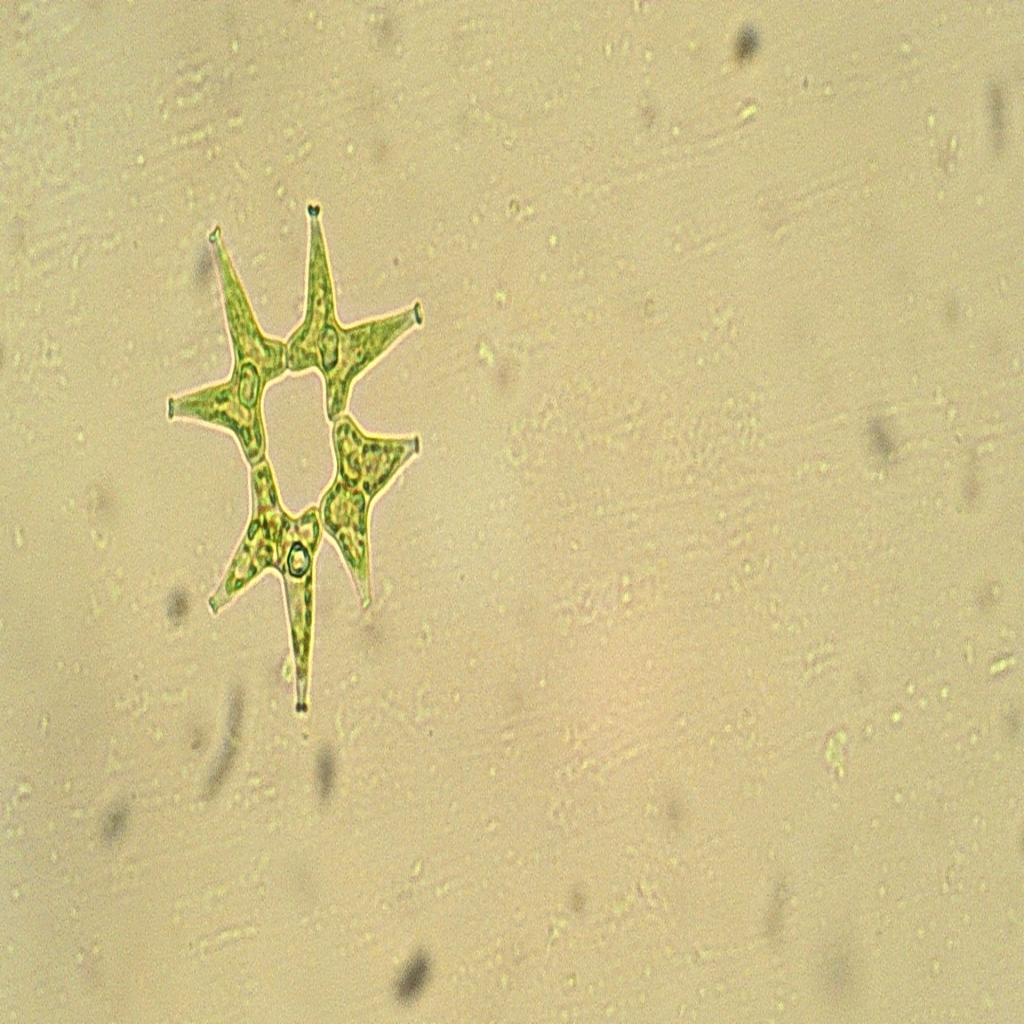Pediastrum_10: (139, 166, 452, 746)
